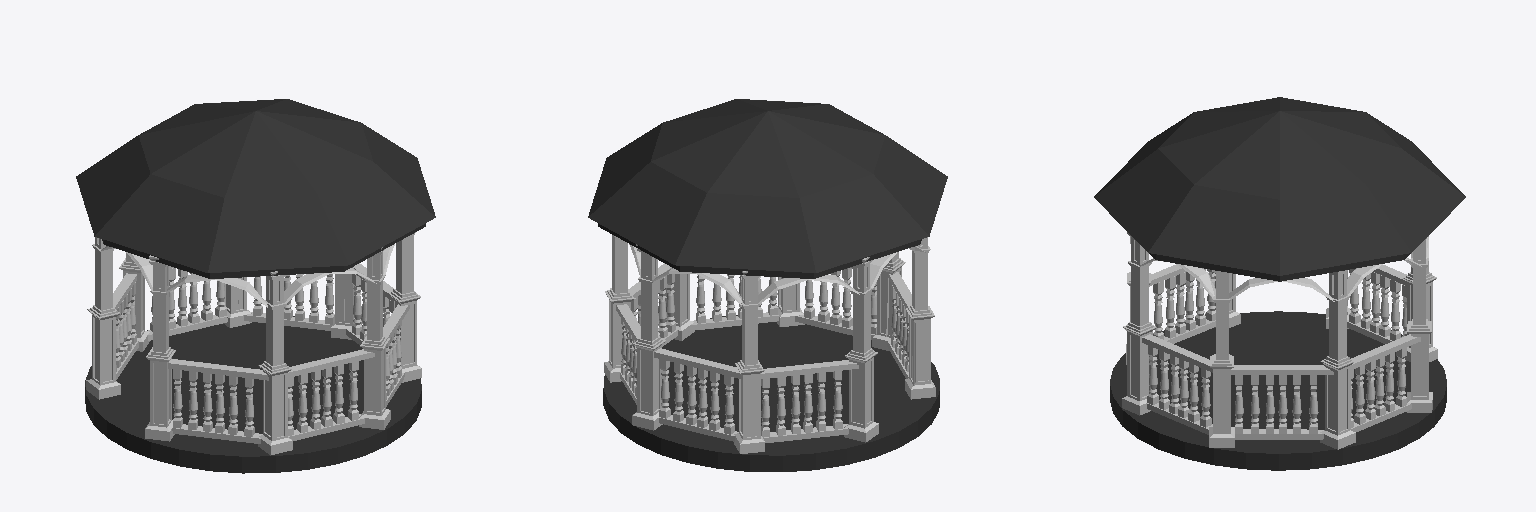
File: quiosque.obj
3 views of the same model, side by side, from view 1: azimuth 30°, elevation 25°; view 2: azimuth 150°, elevation 25°; view 3: azimuth 270°, elevation 25° (orthographic).
Parts seen in each view (by area): view 1: Cylinder.001, Cube, Cylinder; view 2: Cylinder.001, Cube, Cylinder; view 3: Cylinder.001, Cube, Cylinder.
Part boxes in pixels (left/top/right/bottom): Cylinder.001: left=76, top=99, right=435, bottom=278; Cube: left=86, top=232, right=421, bottom=455; Cylinder: left=85, top=316, right=421, bottom=473; Cylinder.001: left=588, top=99, right=947, bottom=278; Cube: left=604, top=235, right=935, bottom=453; Cylinder: left=603, top=315, right=939, bottom=471; Cylinder.001: left=1094, top=97, right=1465, bottom=281; Cube: left=1122, top=232, right=1437, bottom=449; Cylinder: left=1110, top=311, right=1446, bottom=470.
Size of the model in its own units: 35.57 by 30.53 by 35.57.